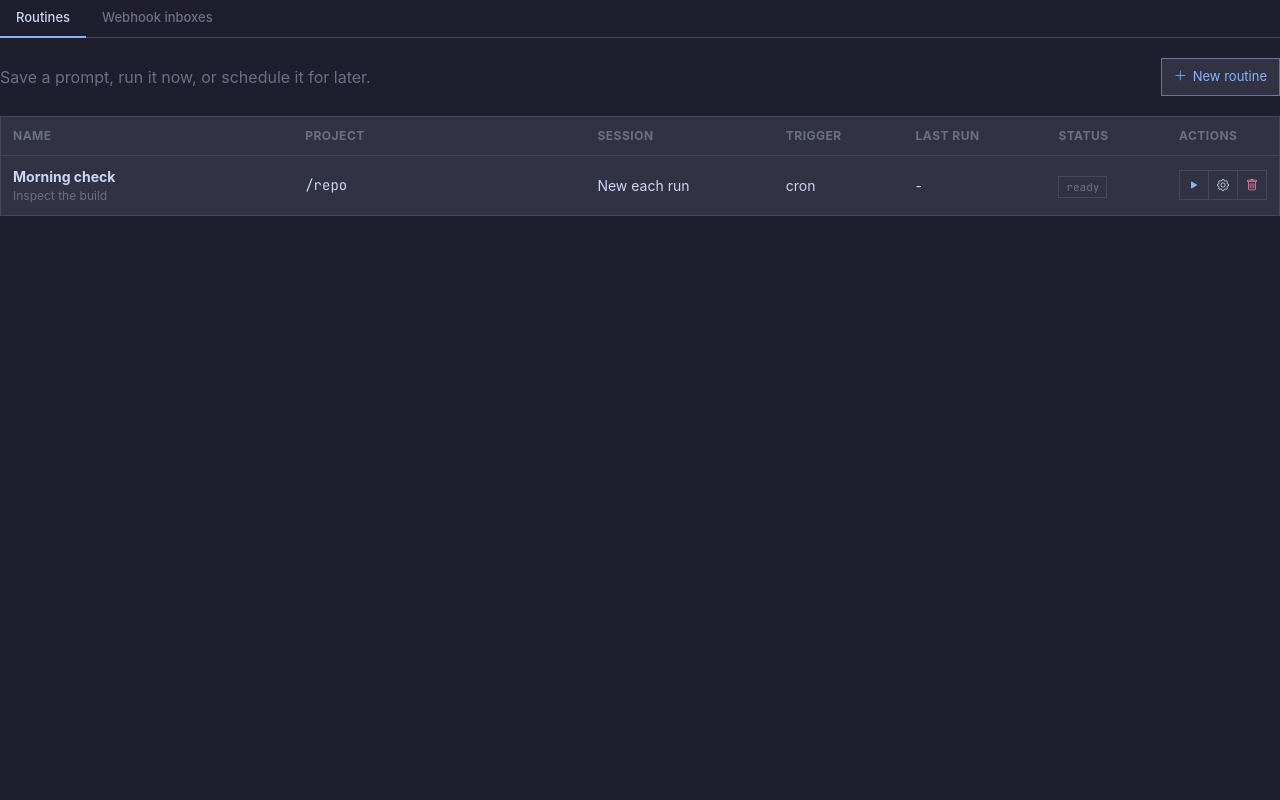
Scenario: Routines › keeps edited fields visible when project-session lookup fails
Click the button named "Settings".
click(1222, 185)  # box [1208,171,1237,199]
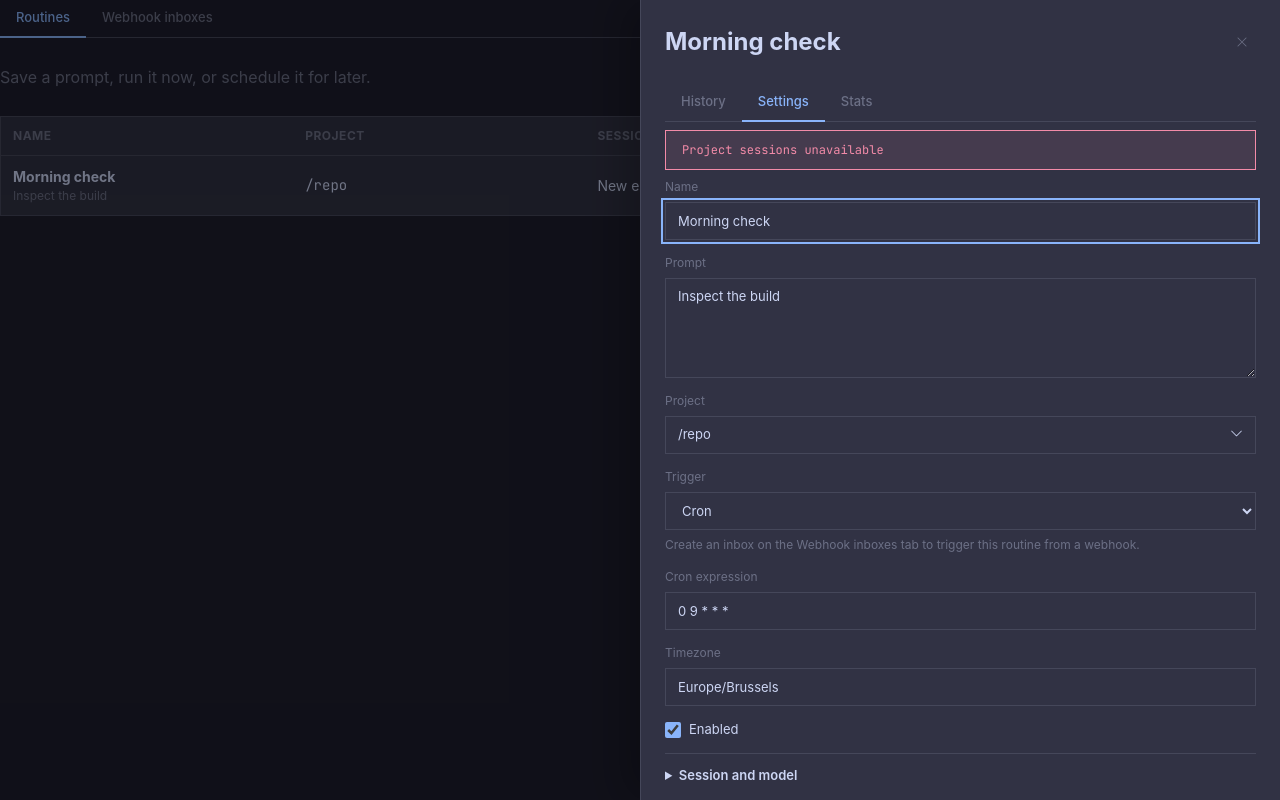
Now the message reads "Project sessions unavailable", box [682,142,884,158]
Now the field labelled "Name" holds "Morning check", box [665,202,1256,240]
Now the text box labelled "Prompt" holds "Inspect the build", box [665,278,1256,378]
